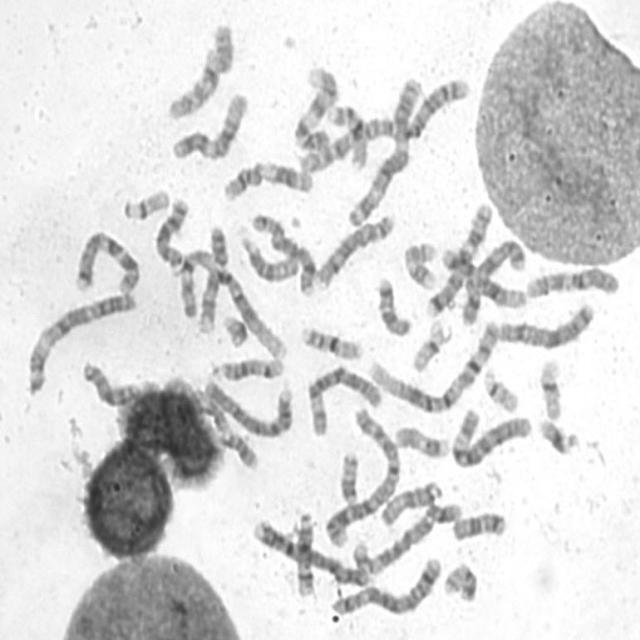A1: (365, 314, 503, 416), (174, 243, 292, 362)
A2: (293, 71, 474, 176), (320, 402, 403, 549)
A3: (22, 288, 140, 396), (344, 72, 425, 228)
B4: (249, 514, 374, 590), (198, 373, 296, 440)
B5: (350, 496, 463, 577), (327, 552, 444, 619)
C10: (164, 18, 236, 122), (522, 263, 622, 301)
C11: (200, 376, 260, 472), (218, 156, 316, 203)
C12: (168, 87, 250, 163), (438, 242, 529, 310)
C6: (303, 360, 384, 438), (447, 404, 534, 471)
C7: (422, 196, 496, 319), (71, 226, 142, 296)
C8: (311, 209, 396, 290), (248, 208, 318, 298)
C9: (290, 62, 341, 153), (195, 221, 231, 336)
D13: (78, 356, 142, 409), (152, 192, 190, 272)
D14: (208, 352, 287, 383), (292, 506, 318, 599)
D15: (376, 475, 444, 528), (236, 231, 301, 284)
E16: (325, 97, 369, 172), (297, 320, 365, 362)
E17: (392, 421, 452, 460), (400, 237, 439, 292)
E18: (373, 272, 414, 338), (449, 507, 509, 544)
F19: (408, 314, 450, 375), (536, 353, 565, 422)
F20: (439, 558, 478, 604), (336, 447, 362, 507)
G21: (536, 413, 581, 458), (219, 309, 250, 350)
G22: (480, 362, 521, 414), (119, 183, 172, 222)
X: (458, 233, 529, 328), (493, 297, 596, 351)
